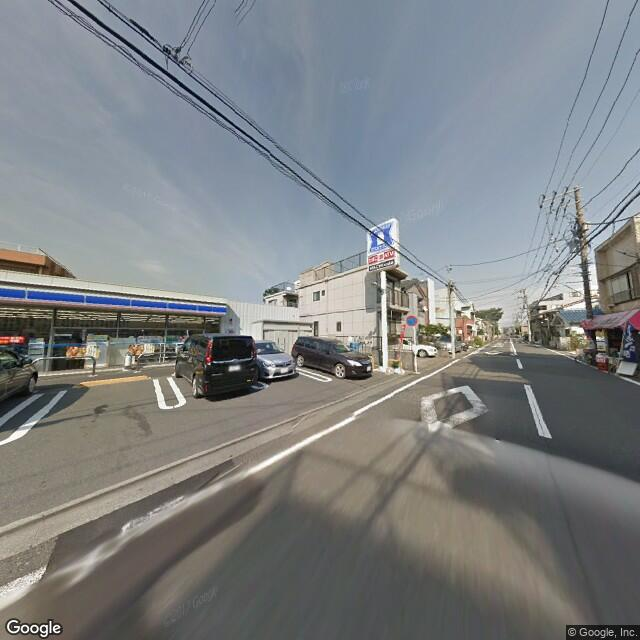lawson: (2, 279, 229, 320), (368, 215, 399, 253)
